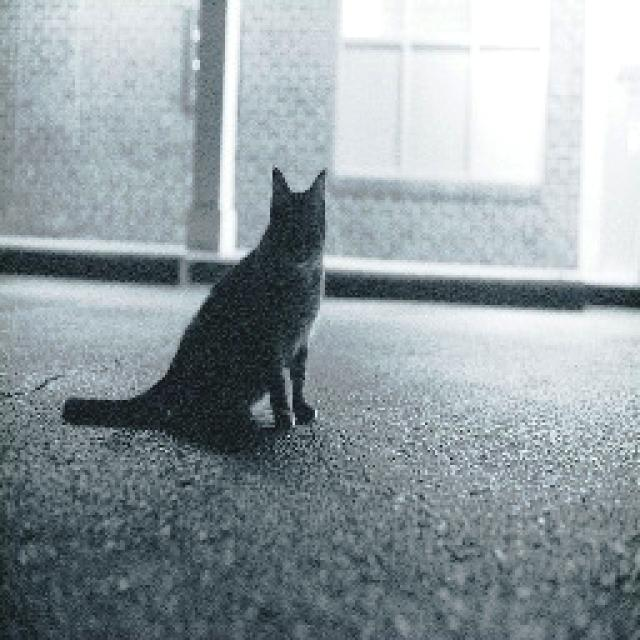cat: (45, 120, 358, 485)
